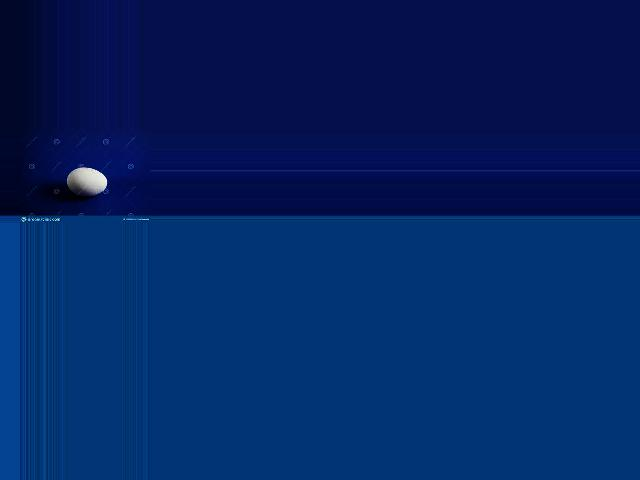egg: (67, 168, 108, 197)
